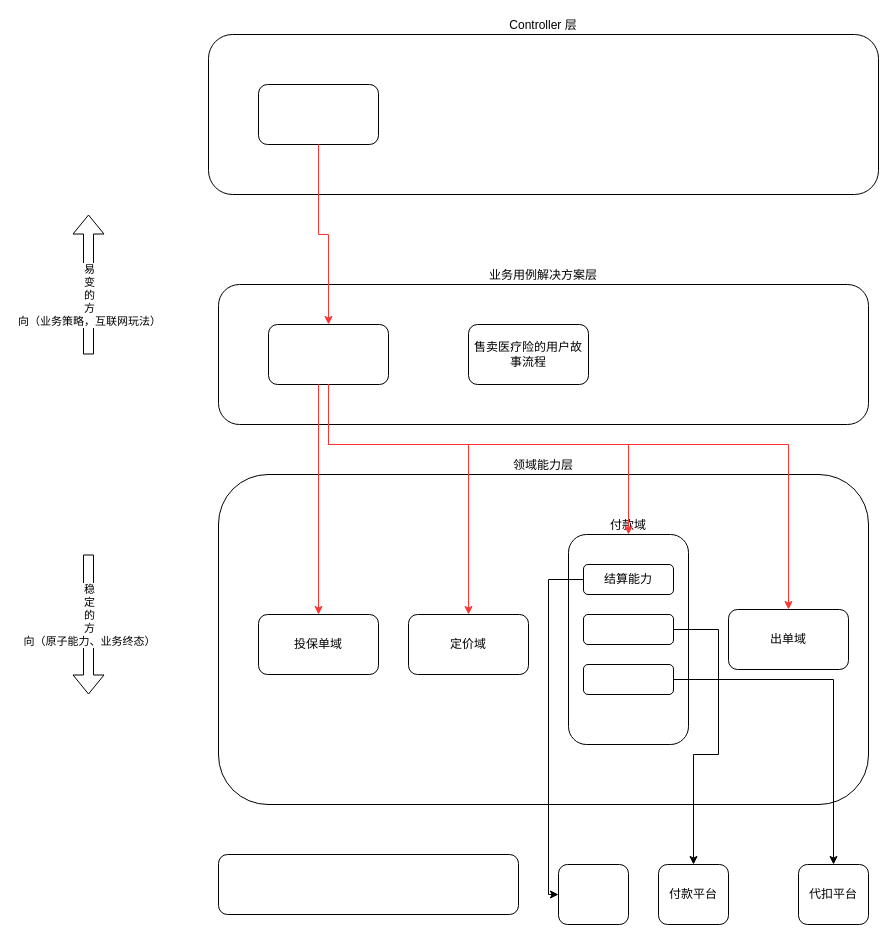
Image size: 896x942. Some labels were removed from this diagram. Each missing label, with the centre of its shape:
"代扣能力" goes at point (628, 679).
"售卖重疾险的用户故事流程" goes at point (328, 354).
"存储系统" goes at point (368, 884).
"投保 controller" goes at point (318, 114).
"结算系统" goes at point (593, 894).
"银企直连能力" goes at point (628, 629).
